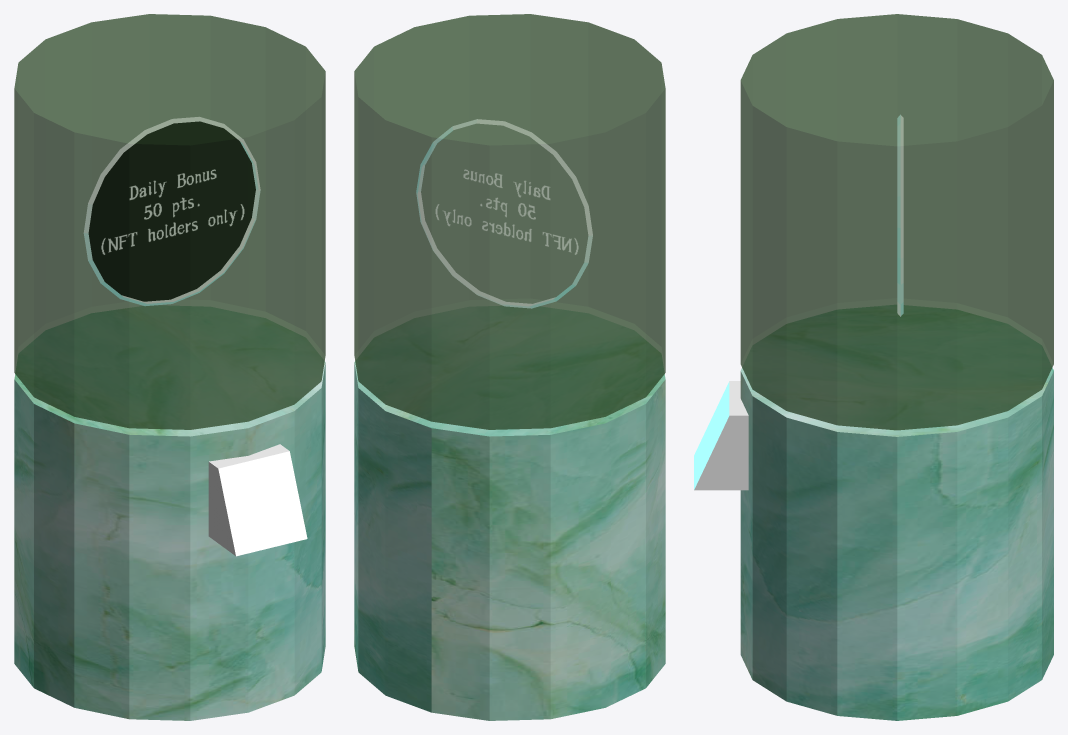
Rendered from poapdispenser.glb.
3 renders of one model, left to right at view 1: azimuth 30°, elevation 25°; view 2: azimuth 150°, elevation 25°; view 3: azimuth 270°, elevation 25°, orthographic.
Parts seen in each view (by area): view 1: Cylinder.001, Cylinder, Circle, Cube; view 2: Cylinder.001, Cylinder, Circle; view 3: Cylinder.001, Cylinder, Cube, Circle.
Boxes of the visible parts, x1,y1,x2,y2 form: Cylinder.001: (14,14,325,429); Cylinder: (14,305,325,720); Circle: (83,117,260,305); Cube: (208,444,307,556); Cylinder.001: (354,14,665,429); Cylinder: (354,306,665,720); Circle: (416,119,592,308); Cylinder.001: (740,14,1053,430); Cylinder: (740,305,1053,720); Cube: (694,381,748,490); Circle: (897,114,903,316).
Size of what is drawn, in the model's own units: 1 by 2.02 by 1.15.
6 materials, 2 textured.
